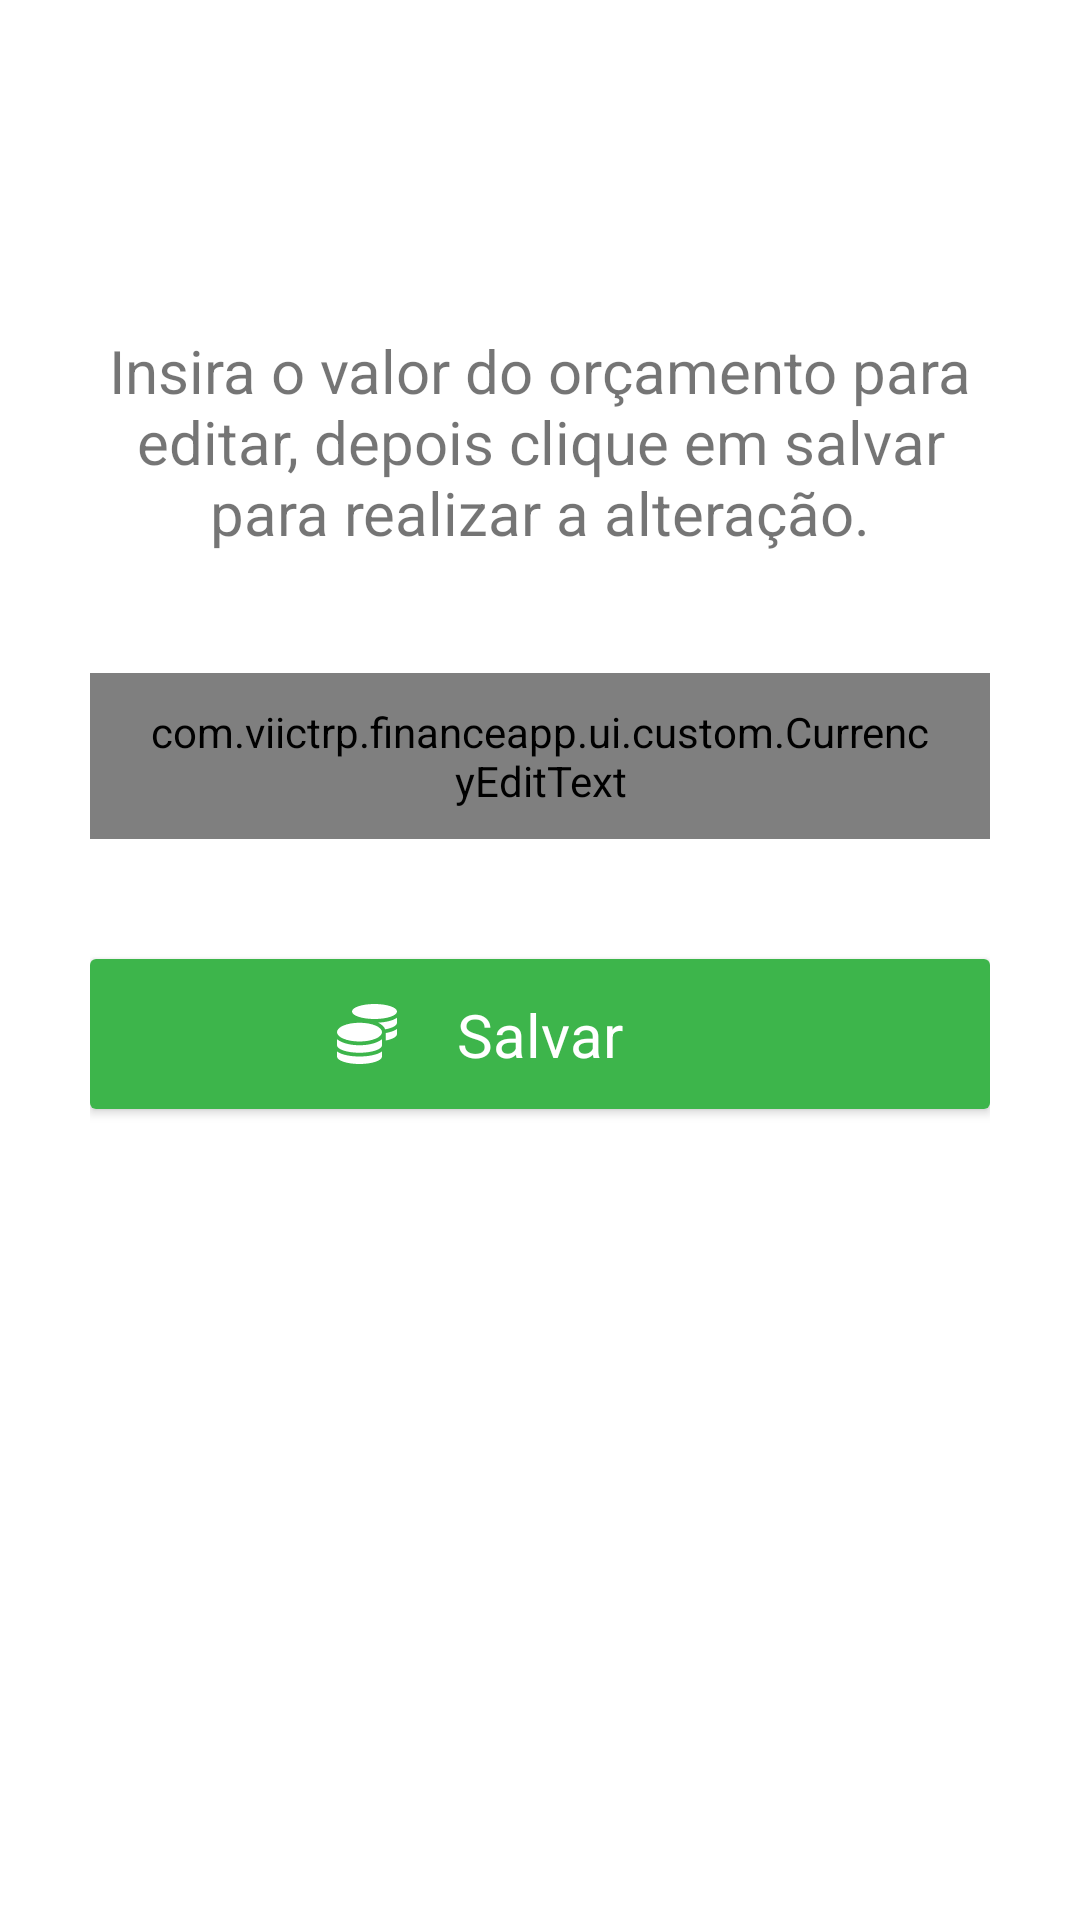

Point at icon controls on the screen. Image size 1080w x 1920h, points as point (x, y).
coins: point (367, 1034)
